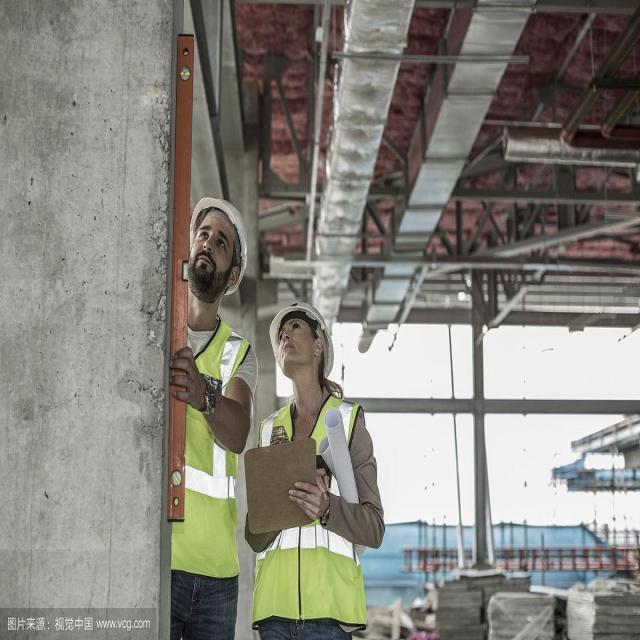Vest: (266, 391, 362, 627), (186, 319, 244, 575)
